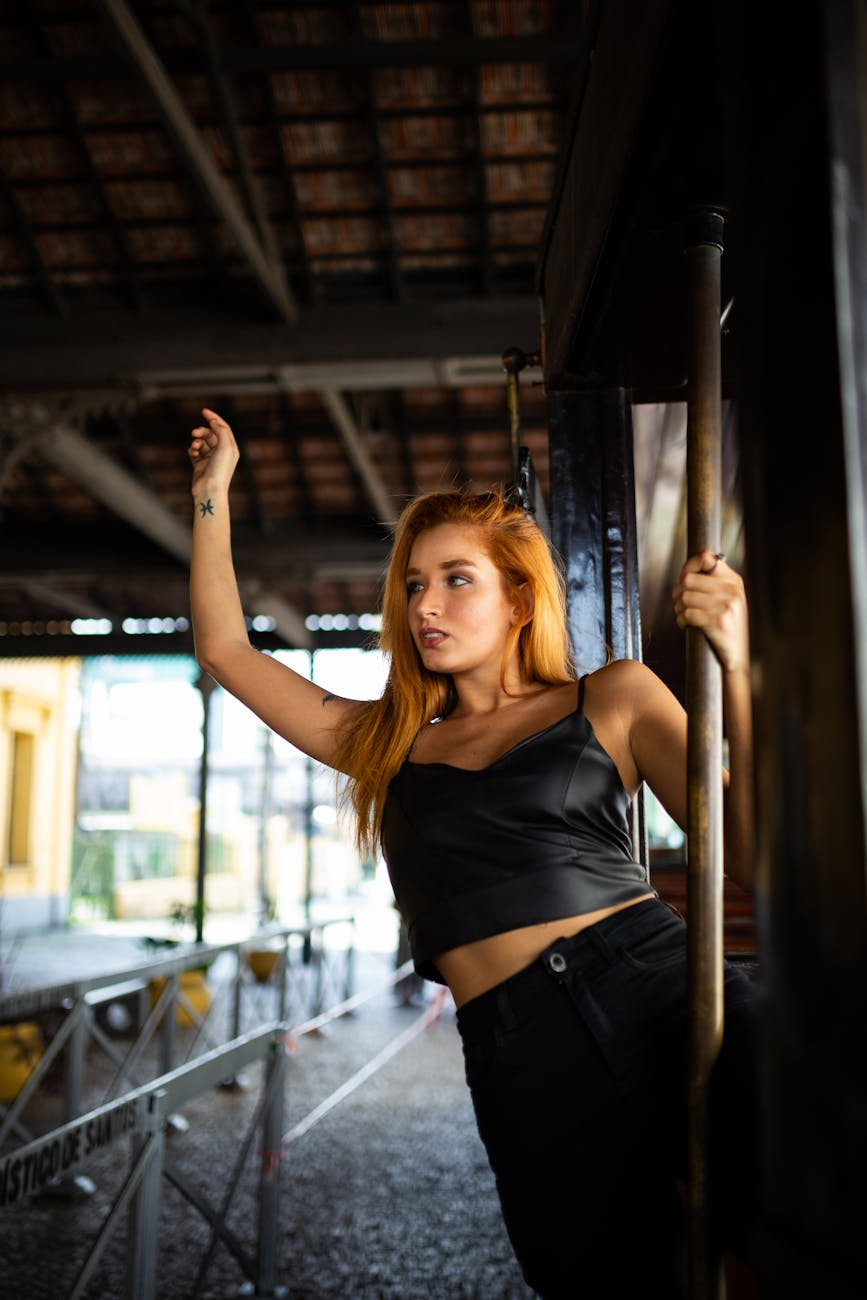crop_top: (361, 663, 658, 959)
